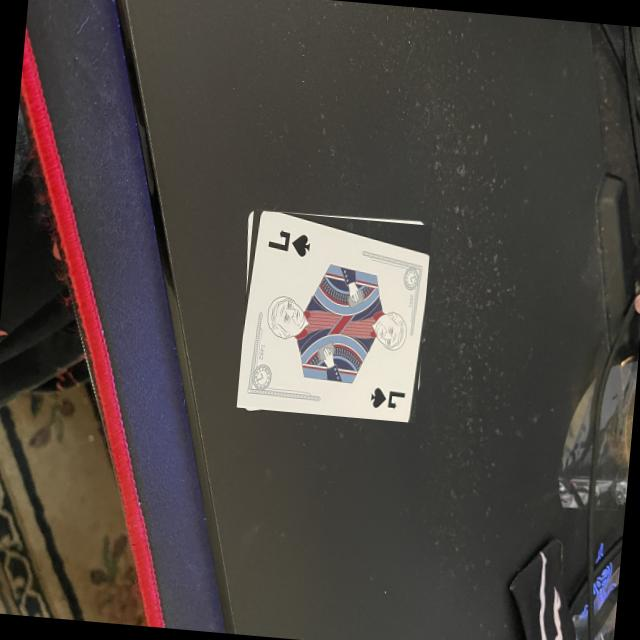Jack of spades: (235, 212, 427, 421)
